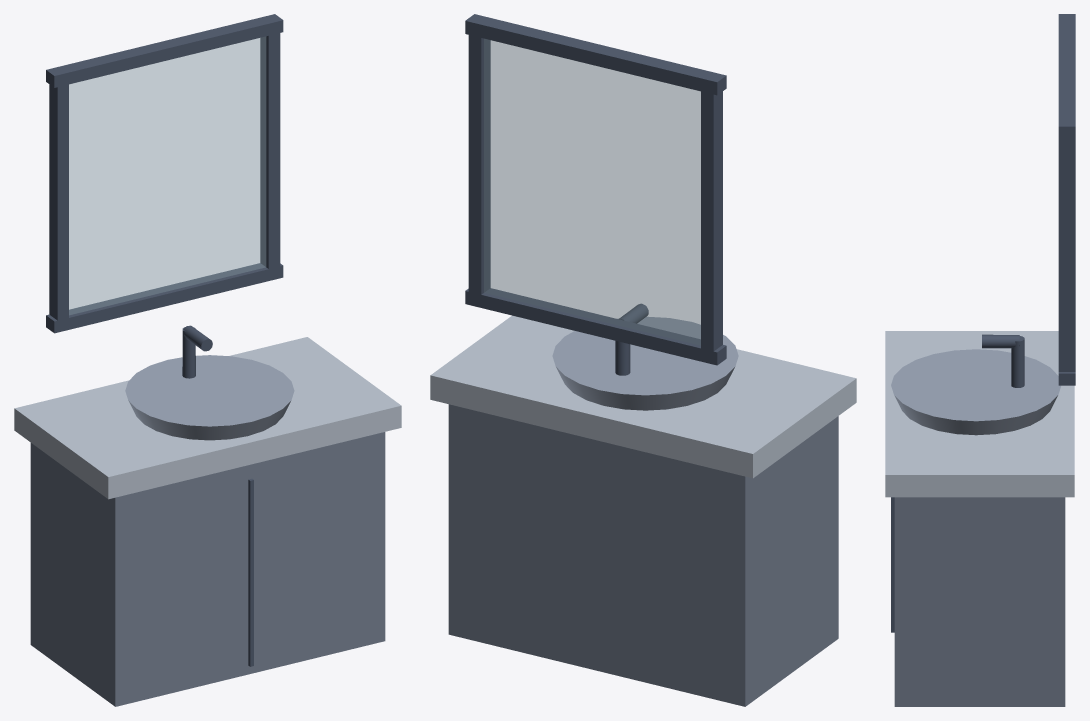
Rendered from basin-lite.glb.
The picture shows the model from 3 angles, left to right: view 1: azimuth 30°, elevation 25°; view 2: azimuth 150°, elevation 25°; view 3: azimuth 270°, elevation 25°; orthographic projection. The views are drawn at different scales.
Parts seen in each view (by area): view 1: basin; view 2: basin; view 3: basin.
Boxes of the visible parts, x1,y1,x2,y2 form: basin: [14, 14, 401, 706]; basin: [430, 14, 856, 706]; basin: [885, 14, 1075, 706].
Size of the model in its own units: 0.9 by 1.66 by 0.5025.
